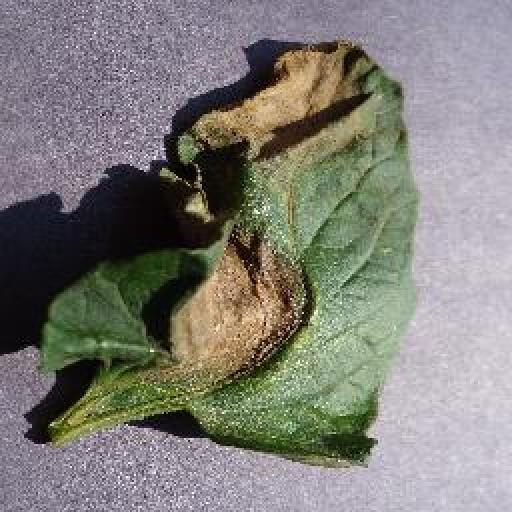disease_tomato: (46, 34, 418, 466)
